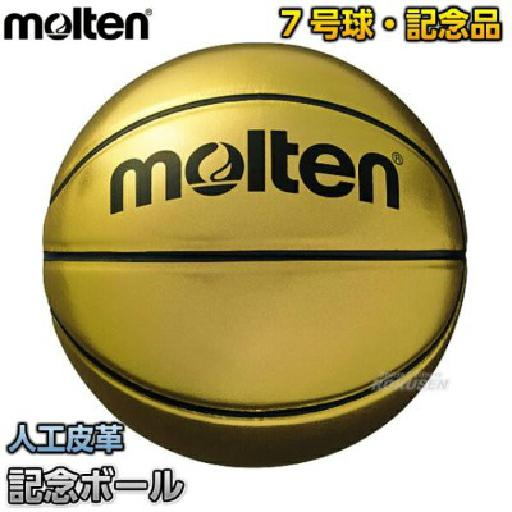ball: (44, 43, 469, 465)
